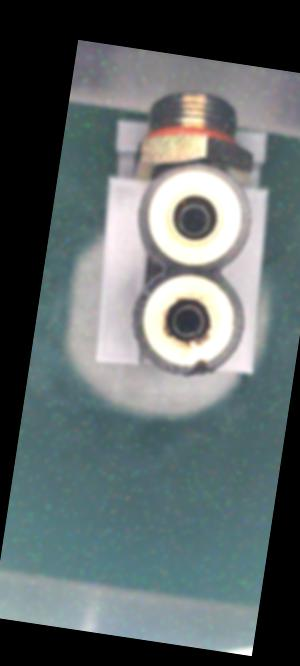bump: (182, 353, 217, 387)
